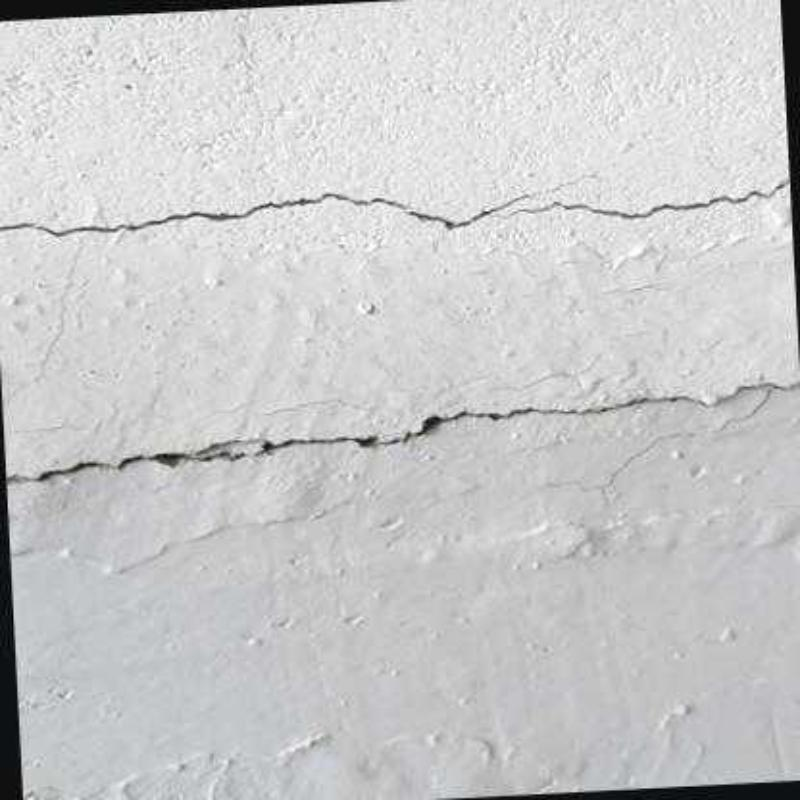crack: (3, 409, 462, 483), (0, 192, 528, 235), (476, 376, 800, 424), (494, 177, 789, 218)
